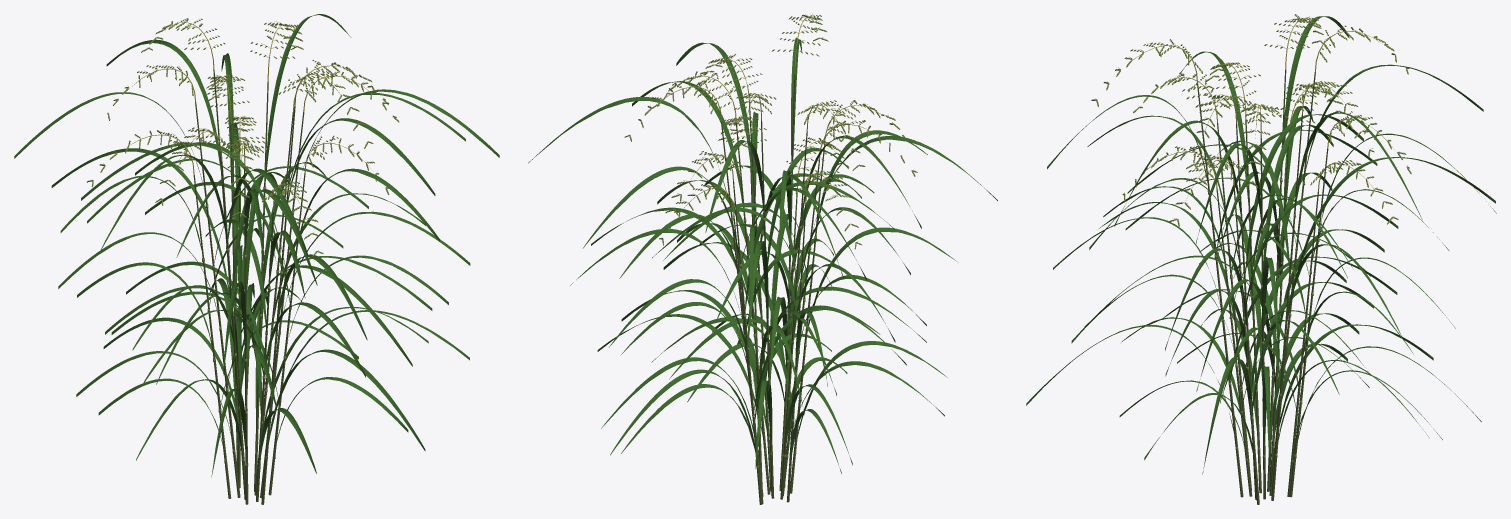
Rendered from rice-3.glb.
3 renders of one model, left to right at view 1: azimuth 30°, elevation 25°; view 2: azimuth 150°, elevation 25°; view 3: azimuth 270°, elevation 25°, orthographic. The views are drawn at different scales.
Parts seen in each view (by area): view 1: grass-leaf, stem, grain, rachis, nodes; view 2: grass-leaf, stem, grain, rachis, nodes; view 3: grass-leaf, stem, grain, rachis, nodes.
Part boxes in pixels (x1,y1,x2,y2): grass-leaf: (14, 14, 499, 476); stem: (193, 70, 305, 504); grain: (87, 18, 399, 257); rachis: (91, 21, 395, 251); nodes: (202, 181, 297, 469); grass-leaf: (528, 37, 997, 473); stem: (721, 74, 824, 504); grain: (624, 14, 917, 249); rachis: (630, 14, 912, 241); nodes: (730, 181, 816, 469); grass-leaf: (1026, 16, 1496, 476); stem: (1197, 70, 1328, 504); grain: (1091, 14, 1411, 226); rachis: (1095, 16, 1407, 219); nodes: (1207, 178, 1319, 468).
Size of what is drawn, in the model's own units: 0.9411 by 1.06 by 0.982.
Materials: 4 (3 with a texture image).
